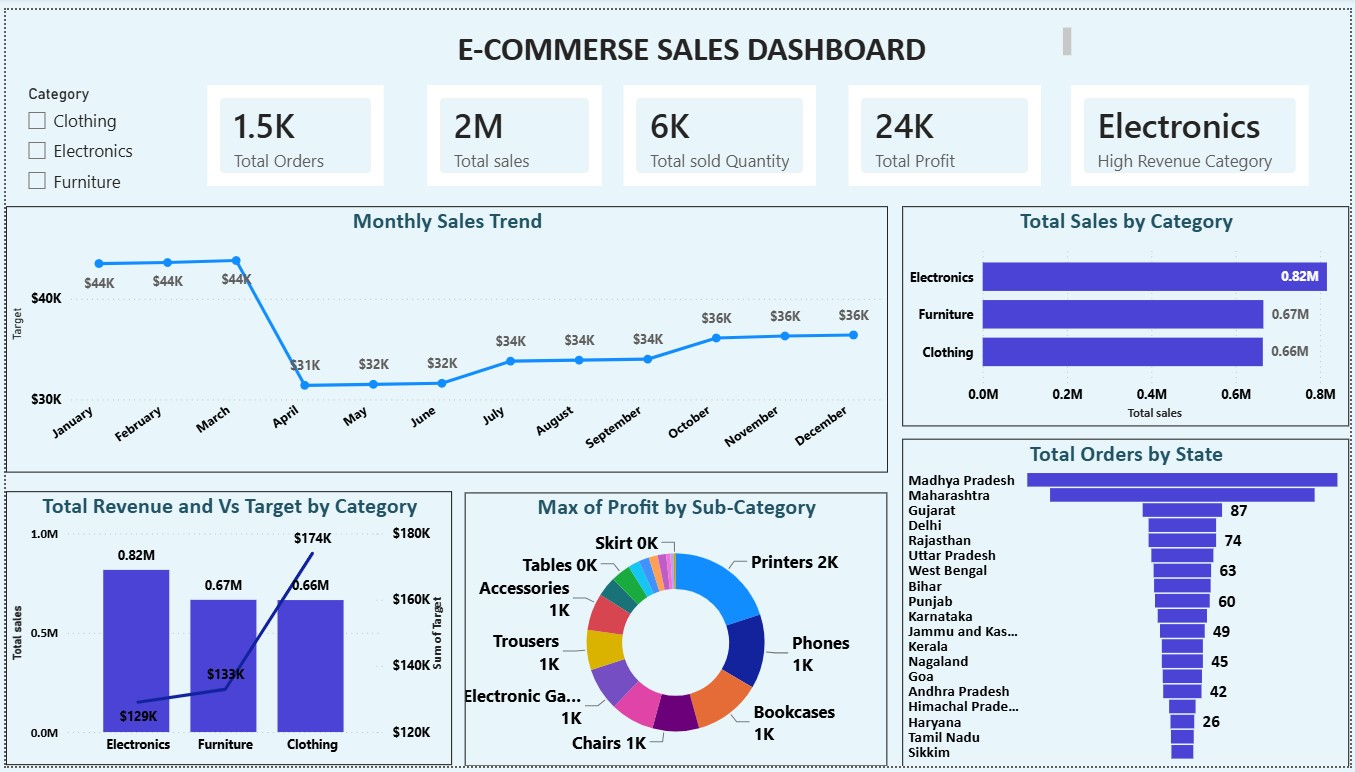

The page's visual inventory and layout, read from the dashboard file:
{"tool":"powerbi","page":{"name":"DASHBOARD","canvas":[1280,720],"ordinal":8},"visuals":[{"type":"textbox","box":[424.7,12.1,594.8,42.2],"z":0},{"type":"cardVisual","fields":{"Data":["Measure Table.Order Count"]},"box":[187,66.4,178.6,106.2],"z":1000},{"type":"cardVisual","fields":{"Data":["Measure Table.Total sales"]},"box":[396.9,66.4,176.1,106.2],"z":2000},{"type":"cardVisual","fields":{"Data":["Measure Table.High Revenue Category"]},"box":[1009.8,66.4,236.5,106.2],"z":3000},{"type":"cardVisual","fields":{"Data":["Measure Table.Total sold"]},"box":[583.9,66.4,193,106.2],"z":4000},{"type":"cardVisual","fields":{"Data":["Measure Table.Total Profit"]},"box":[797.5,66.4,193,106.2],"z":5000},{"type":"slicer","fields":{"Values":["Order_DB.Category"]},"box":[8.4,66.4,178.6,120.6],"z":6000},{"type":"clusteredBarChart","title":"Total Sales by Category","fields":{"Category":["Sales_DB.Category"],"Y":["Measure Table.Total sales"]},"box":[854.2,187,425.9,209.9],"z":7000},{"type":"donutChart","fields":{"Category":["Order_DB.Sub-Category"],"Y":["Max(Order_DB.Profit)"]},"box":[436.9,459.5,402.4,260.7],"z":8000},{"type":"lineChart","title":"Monthly Sales Trend","fields":{"Category":["Sales_DB.Month of Order Date.Variation.Date Hierarchy.Month"],"Y":["Sum(Sales_DB.Target)"]},"box":[0,187,839.7,253.4],"z":9000},{"type":"funnel","fields":{"Y":["Measure Table.Order Count"],"Category":["Orders List_DB.State"]},"box":[854.2,407.8,425.9,312.5],"z":10000},{"type":"lineStackedColumnComboChart","title":"Total Revenue and Vs Target by Category","fields":{"Category":["Order_DB.Category"],"Y":["Measure Table.Total sales"],"Y2":["Sum(Sales_DB.Target)"]},"box":[0,458.3,425,260.7],"z":11000}]}

Visuals, with their boxes in screenshot pixels (x1, y1, x2, y2), scaled from the page's 1280x720 canvas onto the 1355x772 screenshot:
textbox: <bbox>450, 13, 1079, 58</bbox>
cardVisual - Measure Table.Order Count: <bbox>198, 71, 387, 185</bbox>
cardVisual - Measure Table.Total sales: <bbox>420, 71, 607, 185</bbox>
cardVisual - Measure Table.High Revenue Category: <bbox>1069, 71, 1319, 185</bbox>
cardVisual - Measure Table.Total sold: <bbox>618, 71, 822, 185</bbox>
cardVisual - Measure Table.Total Profit: <bbox>844, 71, 1049, 185</bbox>
slicer - Order_DB.Category: <bbox>9, 71, 198, 201</bbox>
"Total Sales by Category" clusteredBarChart: <bbox>904, 201, 1354, 426</bbox>
donutChart - Order_DB.Sub-Category x Max(Order_DB.Profit): <bbox>462, 493, 888, 771</bbox>
"Monthly Sales Trend" lineChart: <bbox>0, 201, 889, 472</bbox>
funnel - Measure Table.Order Count x Orders List_DB.State: <bbox>904, 437, 1354, 771</bbox>
"Total Revenue and Vs Target by Category" lineStackedColumnComboChart: <bbox>0, 491, 450, 771</bbox>
